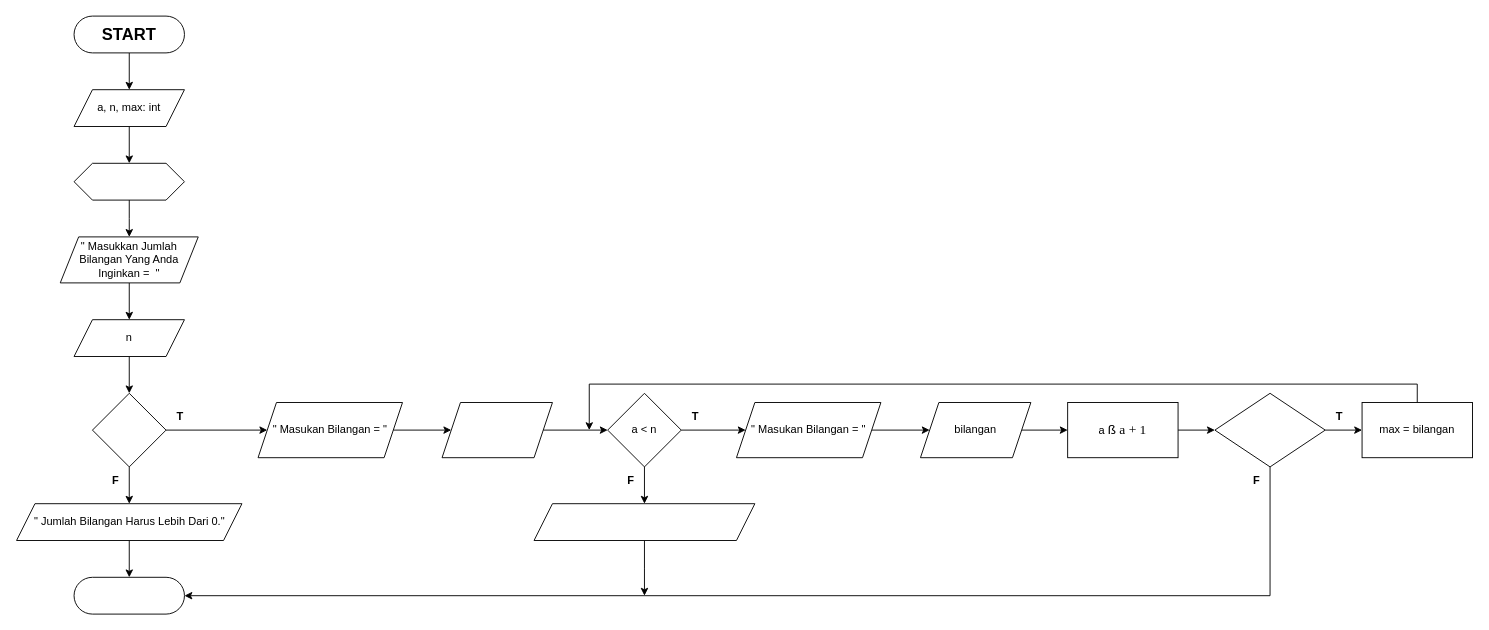
The diagram is 1489 pixels wide and 630 high, and some of its shapes have lost their labels. The centre of each missing label's shape, as x and y in pixels:
" Nilai Tertingginya adalah = ", max: point 644,521
a = 1: point 128,181
bilangan > max: point 1269,429
END: point 128,595
max: point 496,430
n > 0: point 129,429
